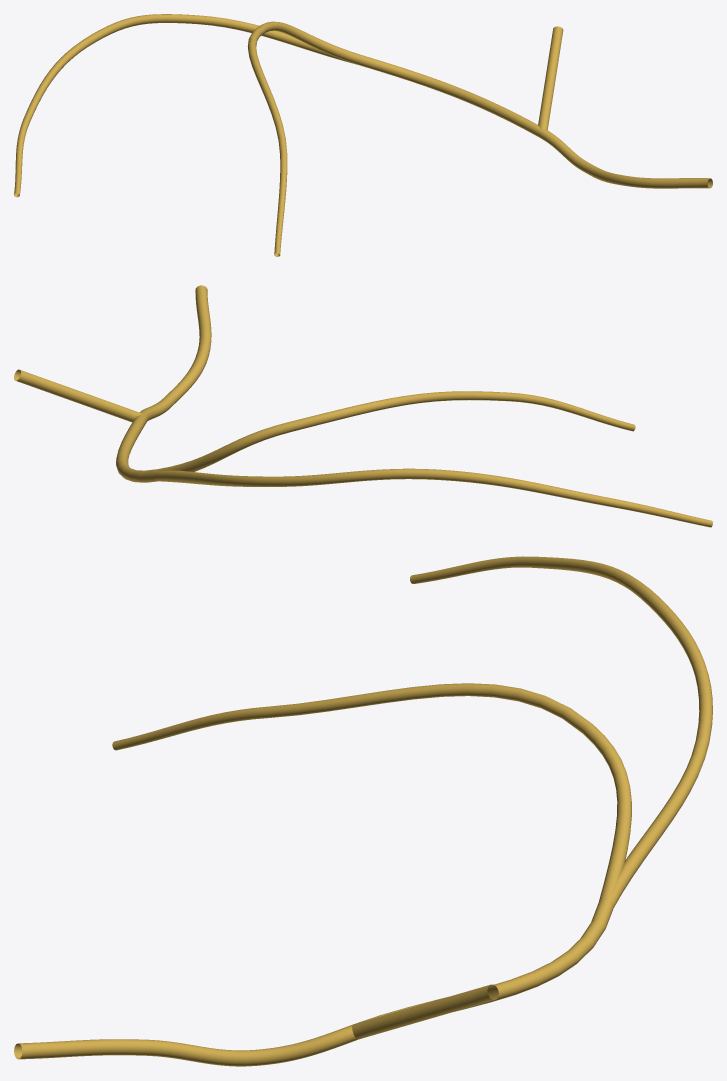
3 renders of one model, top to bottom at view 1: azimuth 30°, elevation 25°; view 2: azimuth 150°, elevation 25°; view 3: azimuth 270°, elevation 25°, orthographic. The views are drawn at different scales.
Visible parts, largest first — view 1: 右侧臀上神经; view 2: 右侧臀上神经; view 3: 右侧臀上神经.
Boxes of the visible parts, left/top/right/bottom form: 右侧臀上神经: left=14, top=14, right=712, bottom=256; 右侧臀上神经: left=14, top=285, right=712, bottom=527; 右侧臀上神经: left=14, top=556, right=712, bottom=1066.
Bounding box in the file's own units: 0.1302 × 0.0282 × 0.0895.
